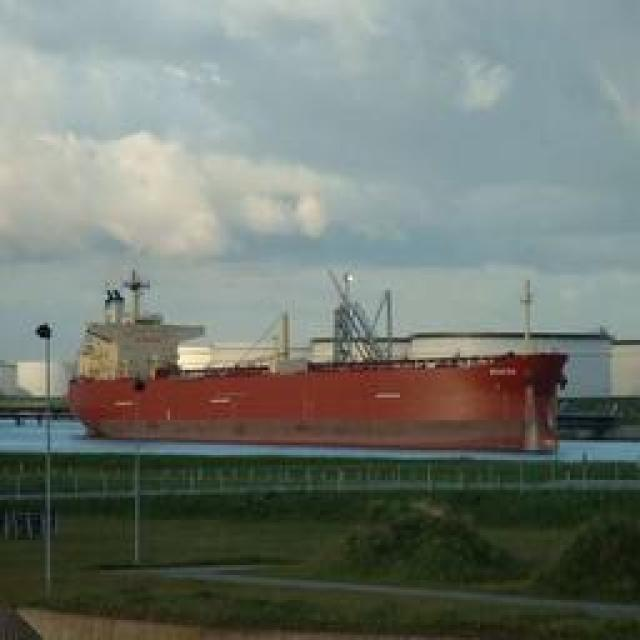CIV_Ship: (66, 328, 574, 454)
